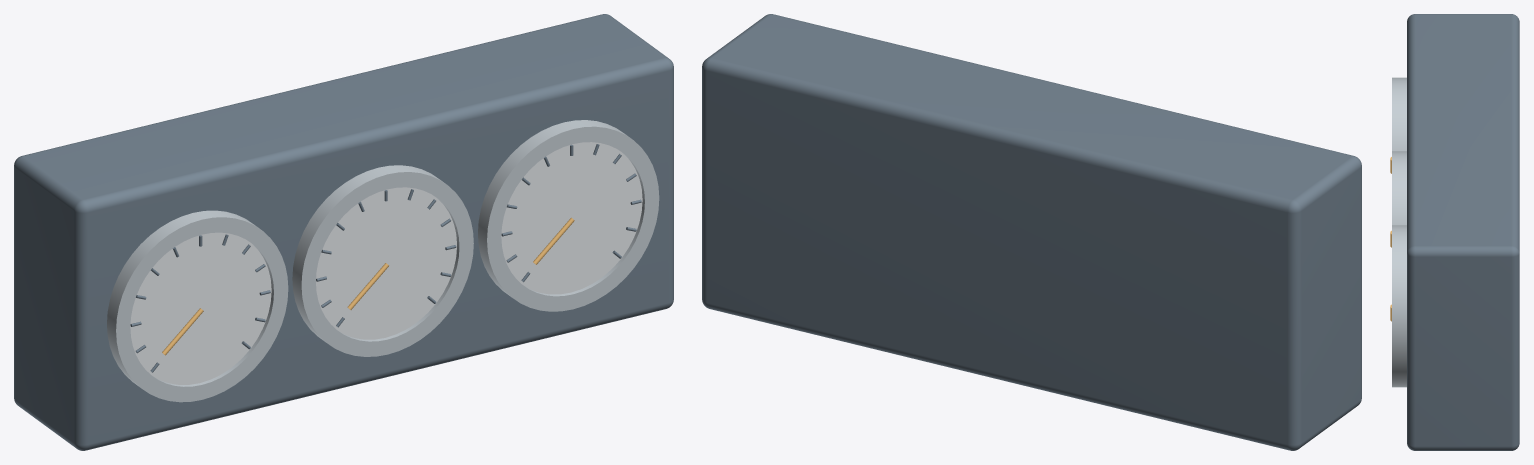
Rendered from GAUGES.glb.
3 views of the same model, side by side, from view 1: azimuth 30°, elevation 25°; view 2: azimuth 150°, elevation 25°; view 3: azimuth 270°, elevation 25° (orthographic). The views are drawn at different scales.
Visible parts, largest first — view 1: GAUGES/0000_panel, GAUGES/0018_dial, GAUGES/0002_dial, GAUGES/0034_dial, GAUGES/0017_bezel, GAUGES/0001_bezel, GAUGES/0033_bezel; view 2: GAUGES/0000_panel; view 3: GAUGES/0000_panel, GAUGES/0033_bezel, GAUGES/0001_bezel, GAUGES/0017_bezel.
Part boxes in pixels (x1,y1,x2,y2): GAUGES/0000_panel: (14,14,673,450); GAUGES/0018_dial: (316,187,456,339); GAUGES/0002_dial: (130,232,271,384); GAUGES/0034_dial: (501,142,642,294); GAUGES/0017_bezel: (292,165,473,356); GAUGES/0001_bezel: (107,210,288,402); GAUGES/0033_bezel: (478,120,659,311); GAUGES/0000_panel: (702,14,1361,450); GAUGES/0000_panel: (1407,14,1519,450); GAUGES/0033_bezel: (1392,225,1406,387); GAUGES/0001_bezel: (1392,77,1406,151); GAUGES/0017_bezel: (1392,151,1406,225).
Bounding box in the file's own units: 0.4 × 0.16 × 0.0918.
